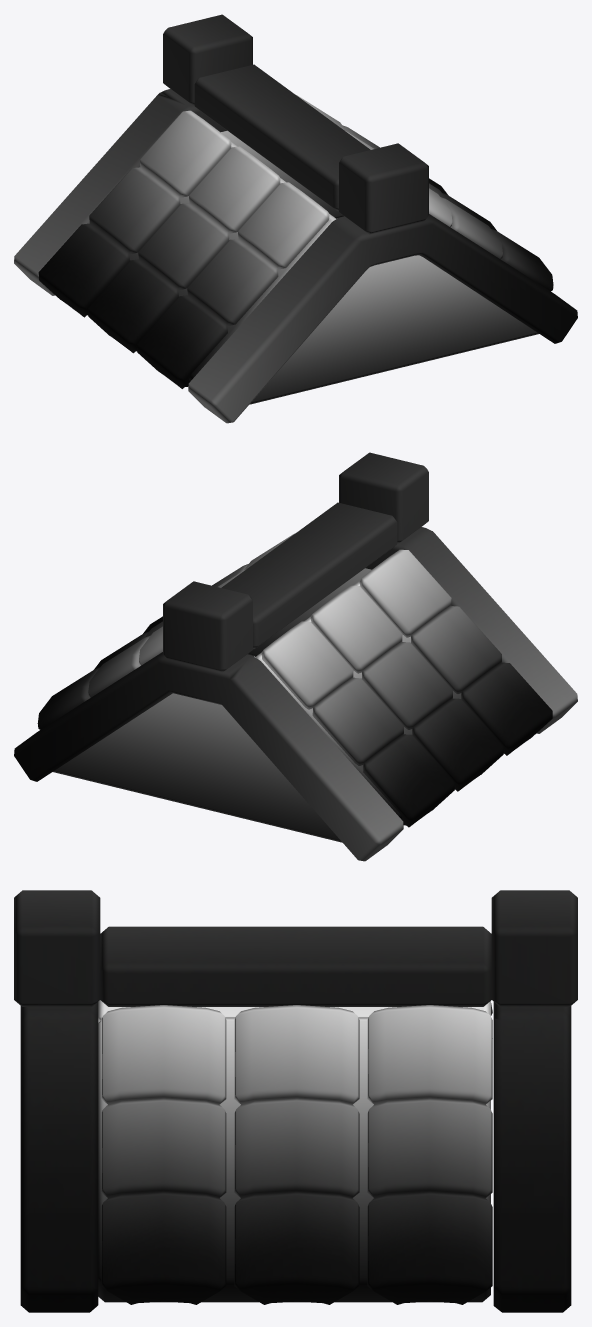
Rendered from SM_Brick_Roof_04.fbx.
3 views of the same model, one above another, from view 1: azimuth 30°, elevation 25°; view 2: azimuth 150°, elevation 25°; view 3: azimuth 270°, elevation 25° (orthographic). The views are drawn at different scales.
Parts seen in each view (by area): view 1: SM_Brick_Roof_04; view 2: SM_Brick_Roof_04; view 3: SM_Brick_Roof_04.
Part boxes in pixels (x1=…): SM_Brick_Roof_04: x1=14, y1=14, x2=577, y2=423; SM_Brick_Roof_04: x1=14, y1=452, x2=577, y2=861; SM_Brick_Roof_04: x1=14, y1=890, x2=577, y2=1312.
Bounding box in the file's own units: 1.11 × 0.5854 × 1.02.
